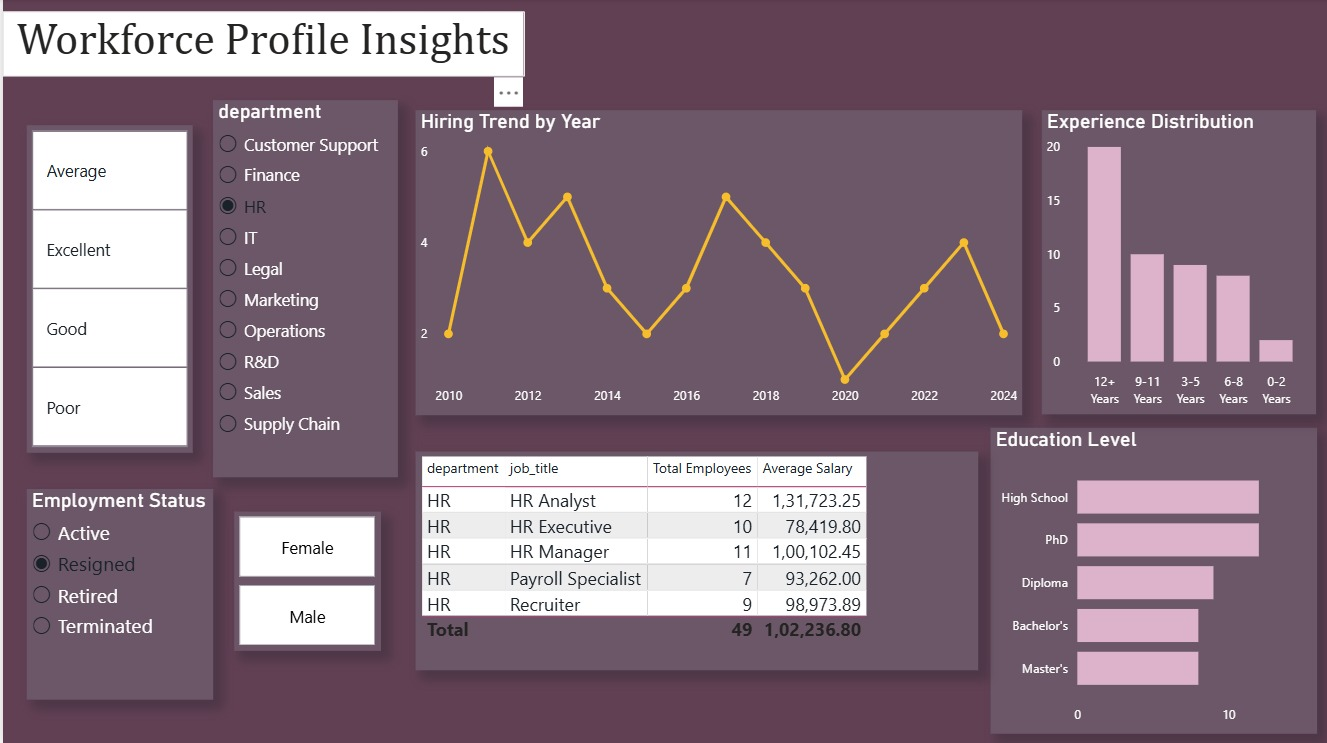

What the dashboard file says about the page in this screenshot:
{"tool":"powerbi","page":{"name":"Workforce Profile","canvas":[1280,720],"ordinal":3},"visuals":[{"type":"textbox","box":[0,12.5,502.5,62.5],"z":0},{"type":"listSlicer","fields":{"Values":["hr employees.department"]},"box":[202.9,97.1,178.6,364.3],"z":1000},{"type":"advancedSlicerVisual","fields":{"Values":["hr employees.gender"]},"box":[222.9,494.3,141.4,134.3],"z":2000},{"type":"advancedSlicerVisual","fields":{"Values":["hr employees.performance_rating"]},"box":[22.9,121.4,160,315.7],"z":3000},{"type":"listSlicer","title":"Employment Status","fields":{"Values":["hr employees.employment_status"]},"box":[22.9,472.9,180,202.9],"z":4000},{"type":"lineChart","title":"Hiring Trend by Year","fields":{"Y":["hr employees.Total Employees"],"Category":["hr employees.date_of_joining.Variation.Date Hierarchy.Year"]},"box":[398.6,107.1,585.7,294.3],"z":5000},{"type":"clusteredBarChart","title":"Education Level","fields":{"Category":["hr employees.education_level"],"Y":["hr employees.Total Employees"]},"box":[952.5,413.8,315,295],"z":6000},{"type":"clusteredColumnChart","title":" Experience Distribution","fields":{"Category":["hr employees.Experience Group"],"Y":["hr employees.Total Employees"]},"box":[1002.5,107.5,265,293.8],"z":7000},{"type":"tableEx","fields":{"Values":["hr employees.department","hr employees.job_title","hr employees.Total Employees","hr employees.Average Salary"]},"box":[398.6,437.1,542.9,211.4],"z":8000}]}

Visuals, with their boxes in screenshot pixels (x1, y1, x2, y2), scaled from the page's 1280x720 canvas onto the 1327x743 screenshot:
textbox: rect(0, 13, 521, 77)
listSlicer - hr employees.department: rect(210, 100, 396, 476)
advancedSlicerVisual - hr employees.gender: rect(231, 510, 378, 649)
advancedSlicerVisual - hr employees.performance_rating: rect(24, 125, 190, 451)
"Employment Status" listSlicer: rect(24, 488, 210, 697)
"Hiring Trend by Year" lineChart: rect(413, 111, 1020, 414)
"Education Level" clusteredBarChart: rect(987, 427, 1314, 731)
" Experience Distribution" clusteredColumnChart: rect(1039, 111, 1314, 414)
tableEx - hr employees.department x hr employees.job_title: rect(413, 451, 976, 669)
